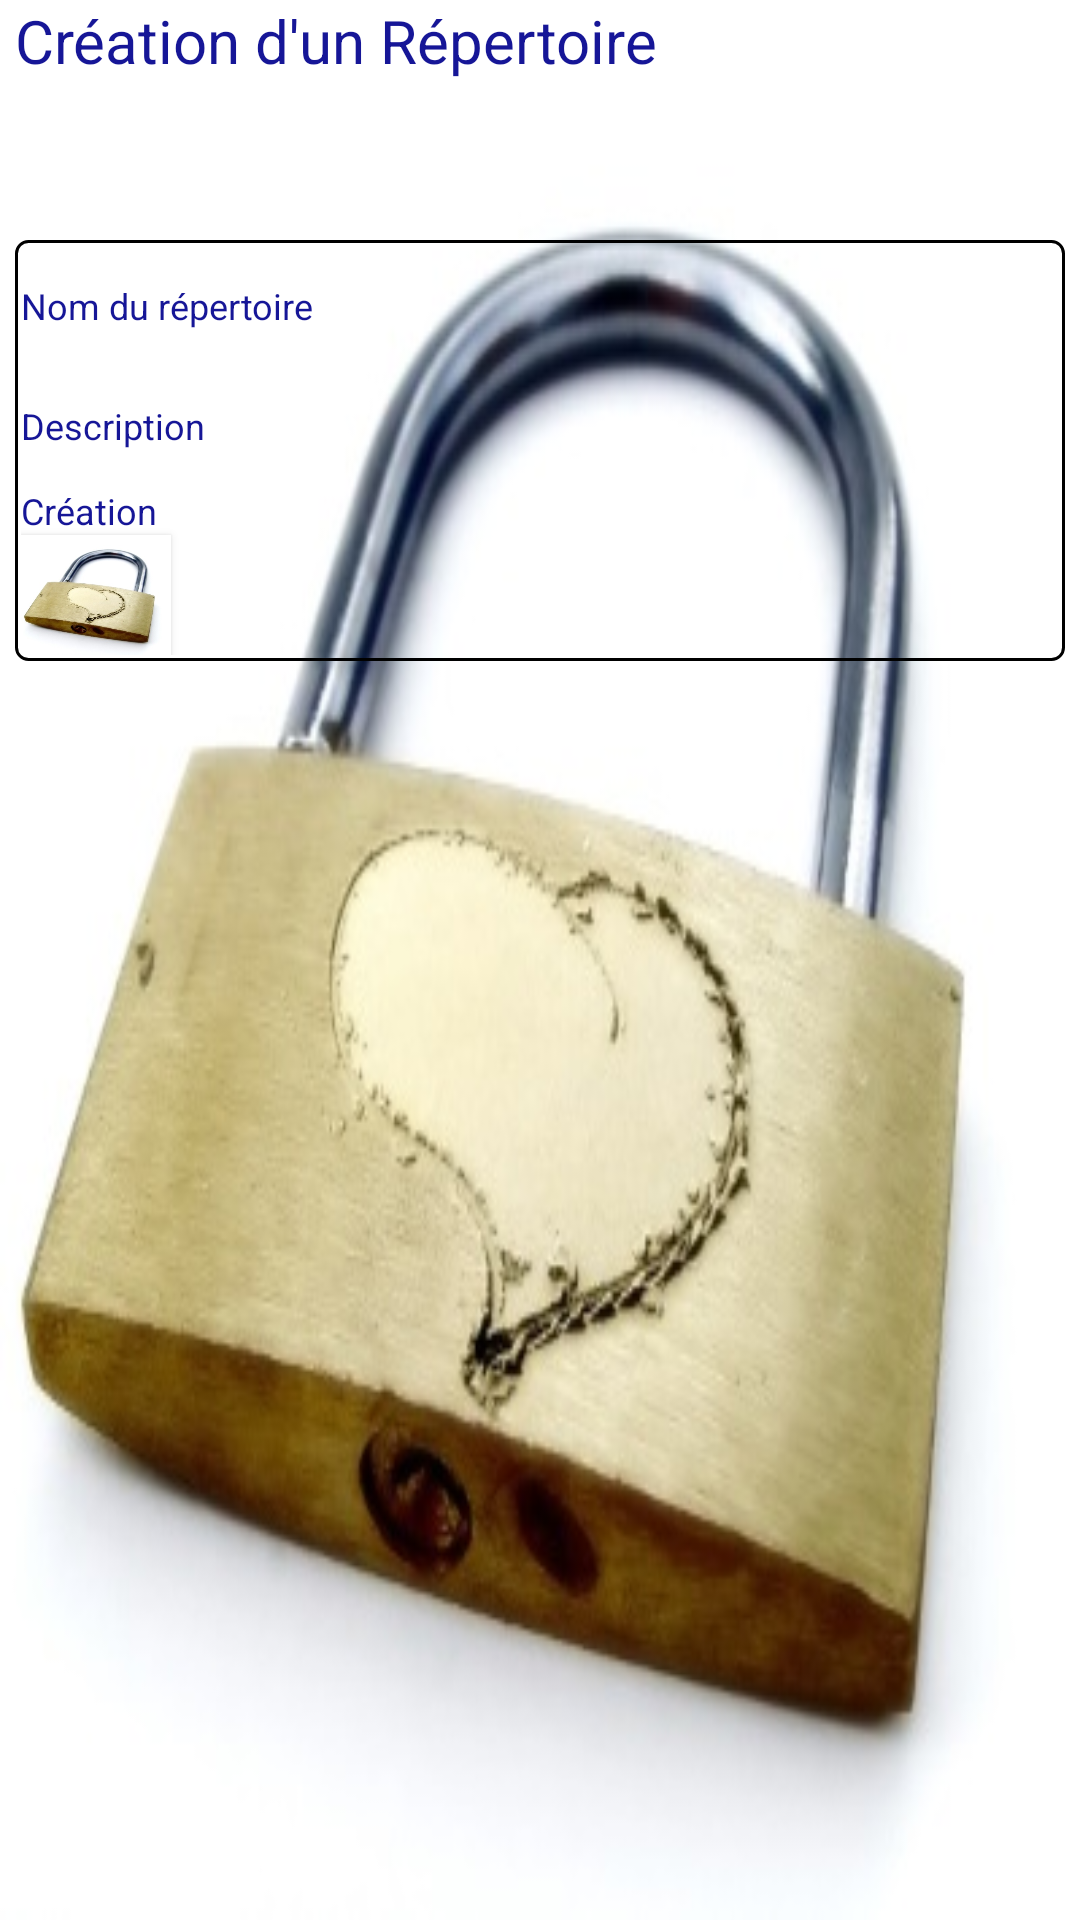

Where to tap for icons on this 1080w x 1920h app screen, as (x,y):
cadnas: (89,598)
